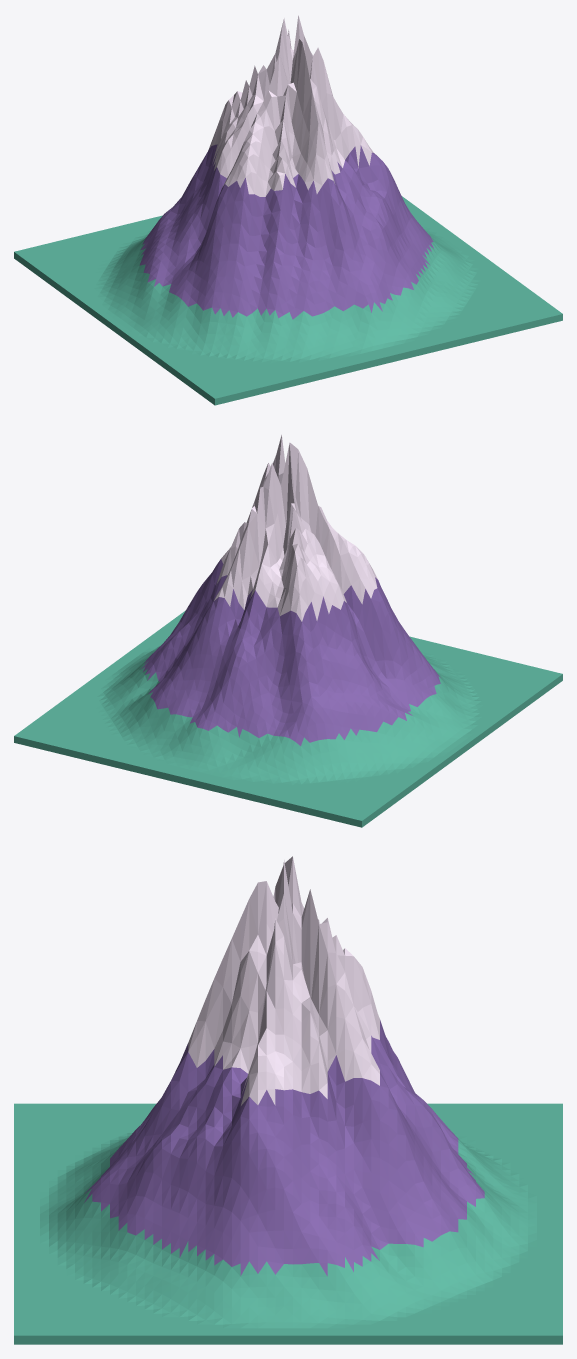
Rendered from Mountain_Alpine.obj.
The picture shows the model from 3 angles, top to bottom: view 1: azimuth 30°, elevation 25°; view 2: azimuth 150°, elevation 25°; view 3: azimuth 270°, elevation 25°; orthographic projection. The views are drawn at different scales.
Visible parts, largest first — view 1: Grass, LavenderRock, SnowCap; view 2: Grass, LavenderRock, SnowCap; view 3: Grass, LavenderRock, SnowCap.
Part boxes in pixels (box(x1,y1,x2,y2)): Grass: box(14, 196, 562, 405); LavenderRock: box(139, 144, 433, 319); SnowCap: box(208, 15, 373, 196); Grass: box(14, 610, 562, 827); LavenderRock: box(141, 559, 440, 745); SnowCap: box(214, 434, 377, 621); Grass: box(14, 1103, 562, 1344); LavenderRock: box(84, 1020, 484, 1276); SnowCap: box(188, 856, 379, 1105).
Size of the model in its own units: 13 by 9.79 by 13.
